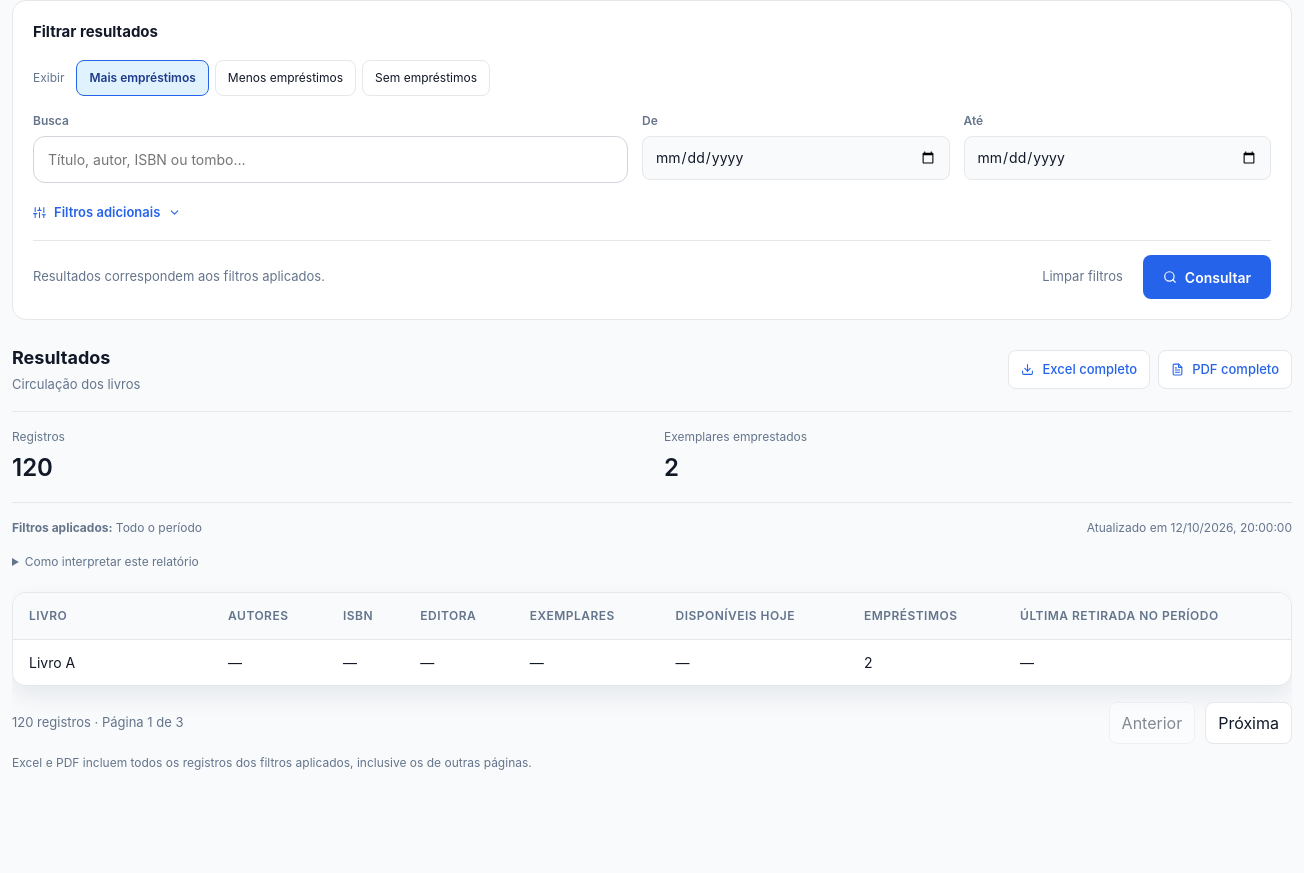
Test: filtros adicionais recolhem sem apagar valores e sinalizam os filtros ativos
Expected: the text "Livro A" is shown, x1=13 y1=639 x2=212 y2=685
Expected: the dropdown labelled "Série" is not shown
Click the button "Filtros adicionais": point(107, 212) x1=33 y1=192 x2=181 y2=232
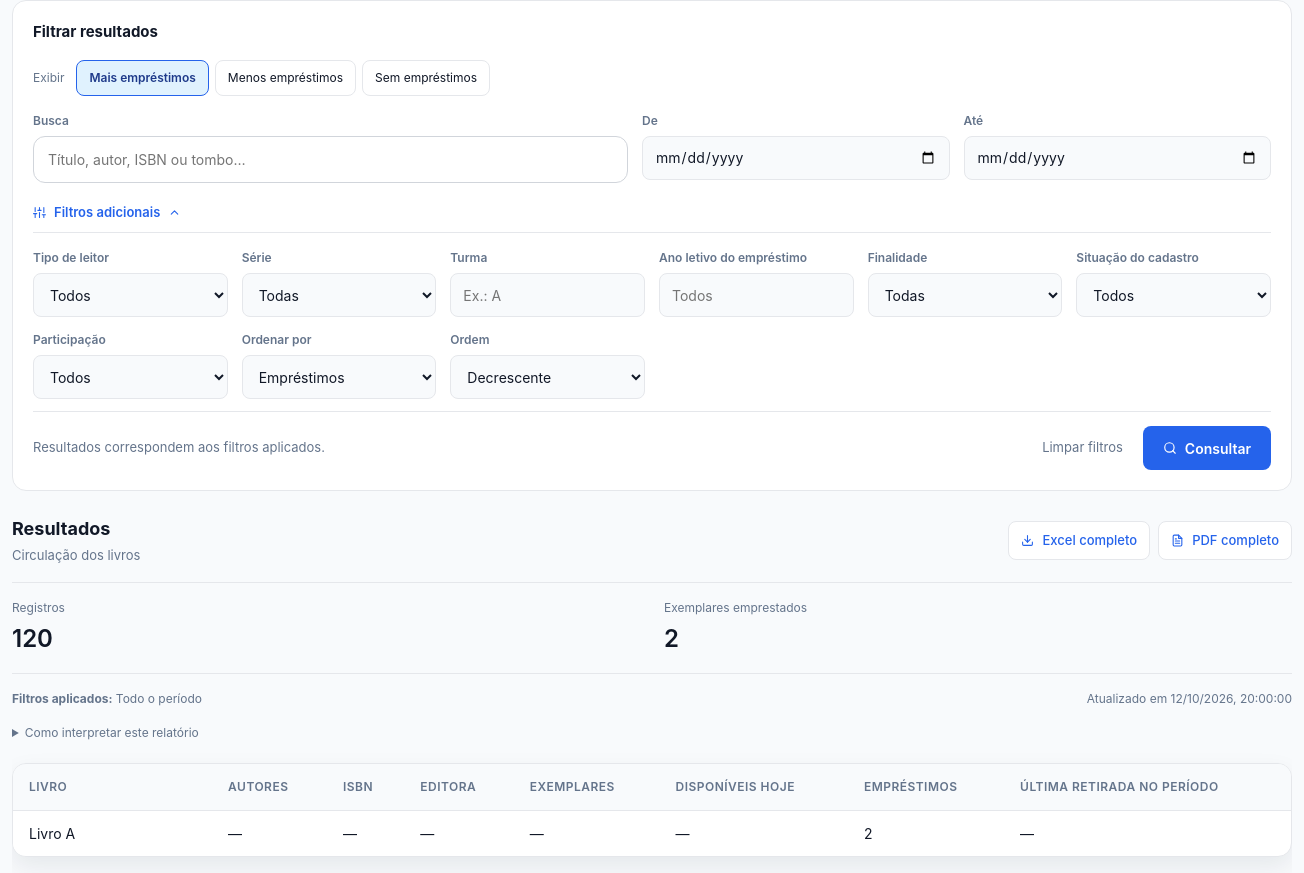
Select "6º Ano" in the dropdown labelled "Série": point(339, 295) x1=242 y1=273 x2=436 y2=317
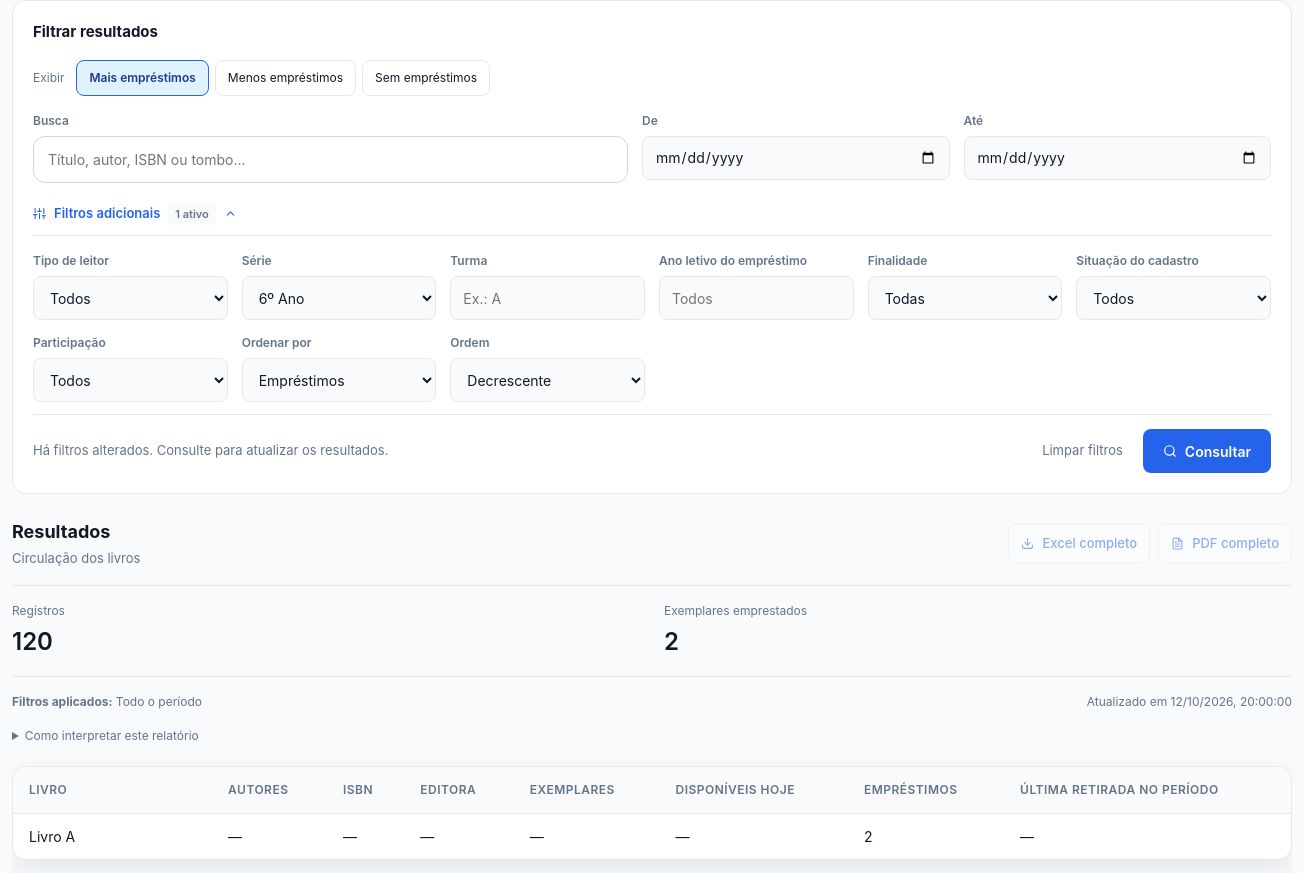
Expected: the button "Filtros adicionais 1 ativo" is shown
Click the button "Filtros adicionais 1 ativo": point(135, 214) x1=33 y1=192 x2=237 y2=235
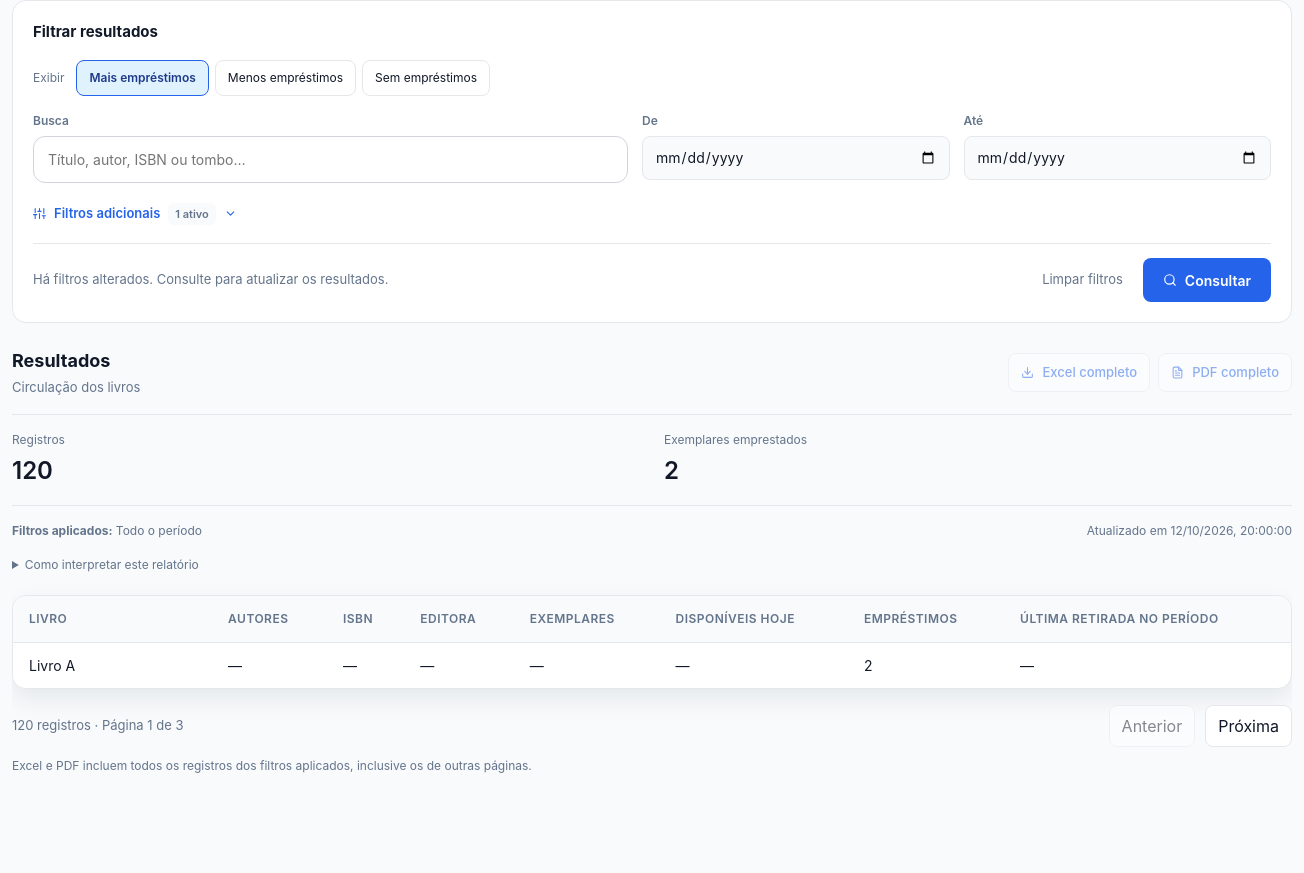
Expected: the button "PDF completo" is disabled, x1=1158 y1=352 x2=1292 y2=392
Expected: the text "Série" is gone
Click the button "Consultar": point(1207, 280) x1=1143 y1=258 x2=1271 y2=302
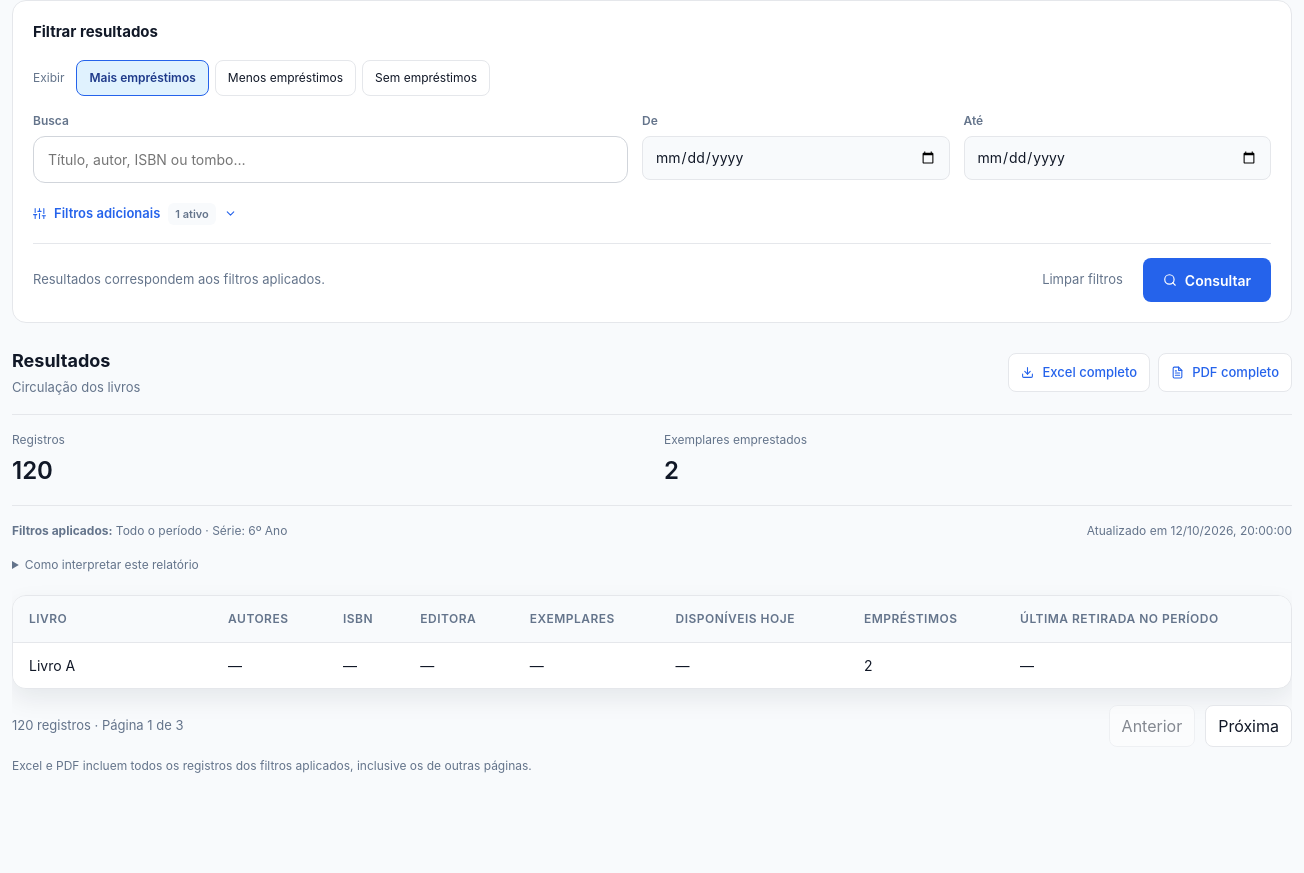
Expected: the button "PDF completo" is enabled, x1=1158 y1=352 x2=1292 y2=392
Click the button "Filtros adicionais 1 ativo": point(135, 214) x1=33 y1=192 x2=237 y2=235
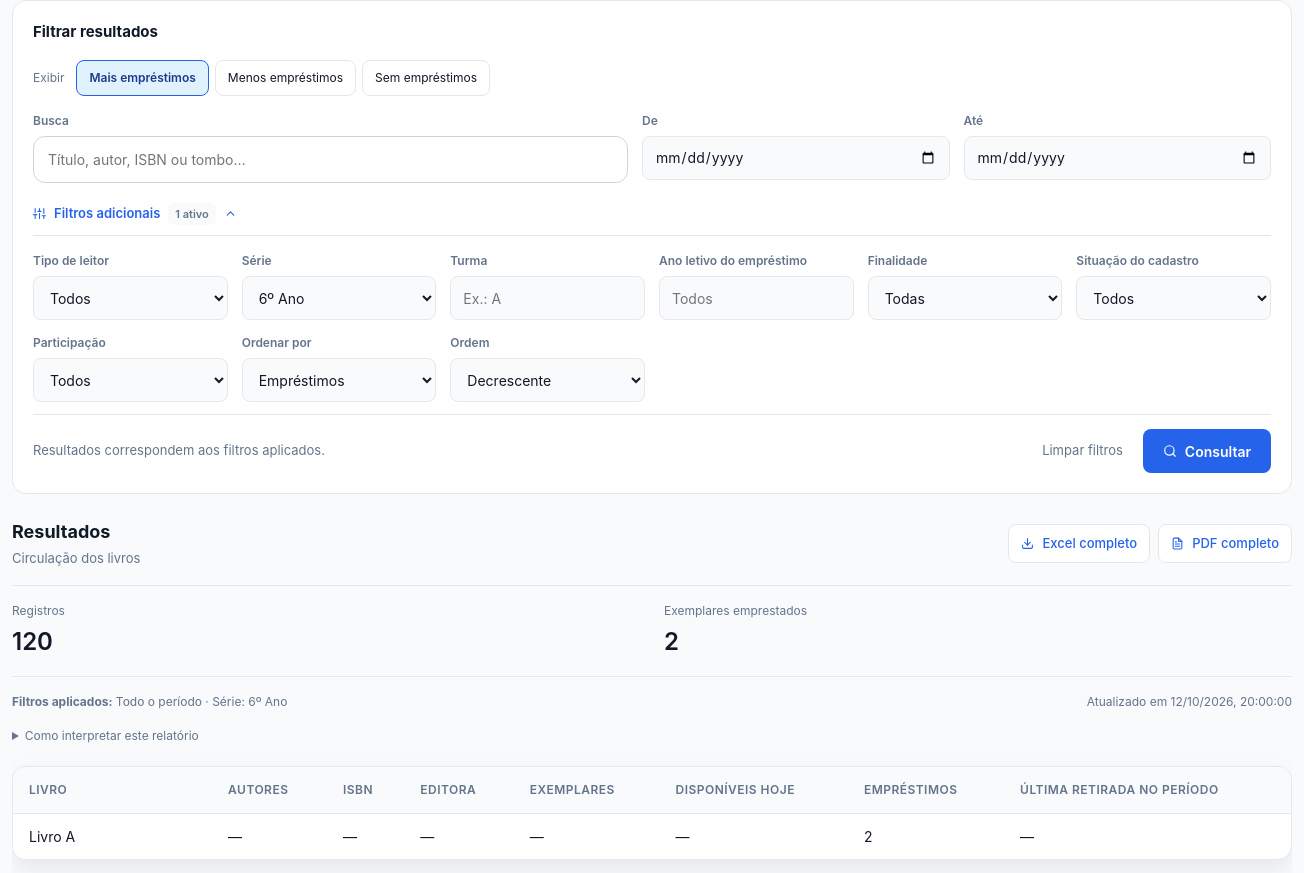
Click the button "Limpar filtros": point(1082, 451) x1=1034 y1=431 x2=1131 y2=471
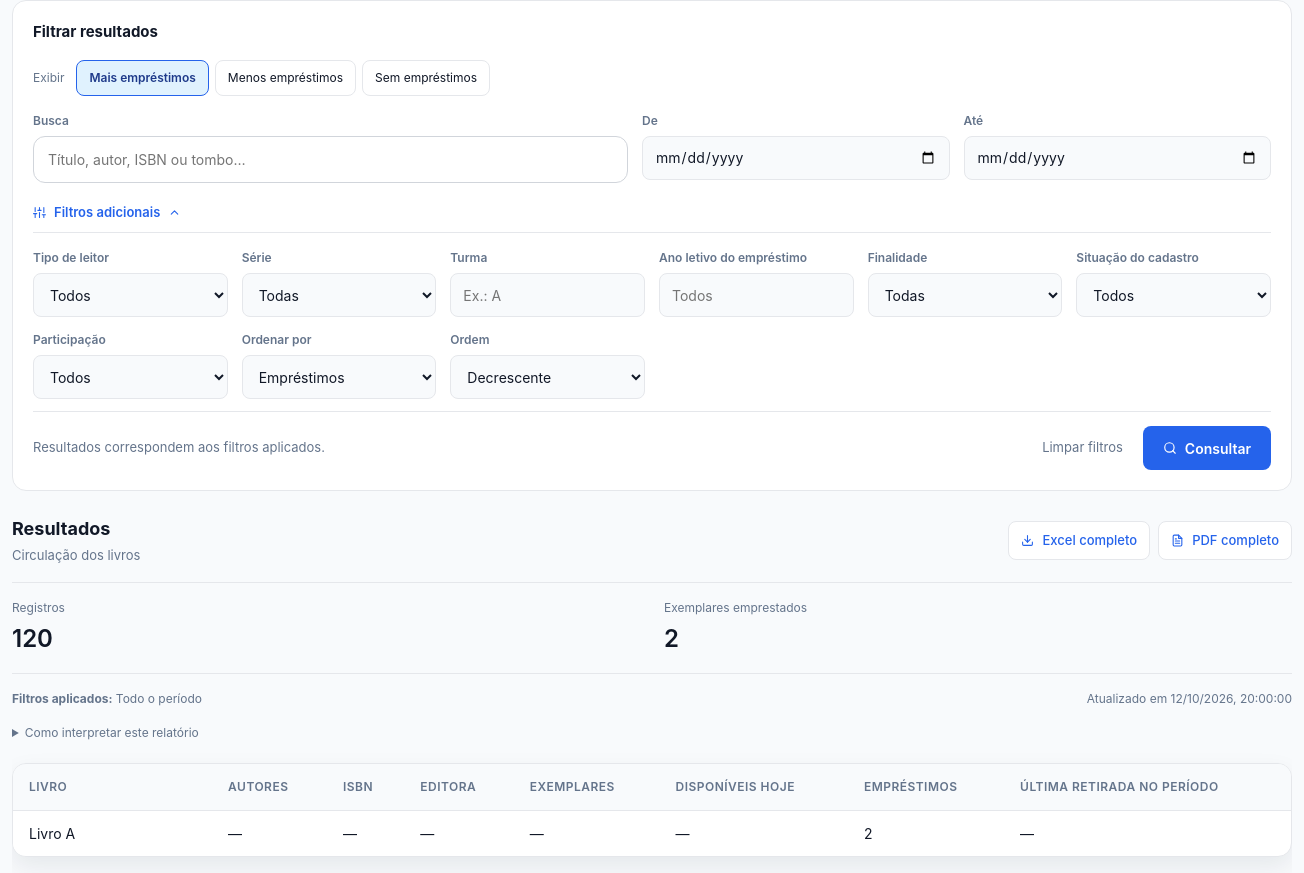
Expected: the button "Filtros adicionais" no longer shows "ativo", x1=33 y1=192 x2=181 y2=232
